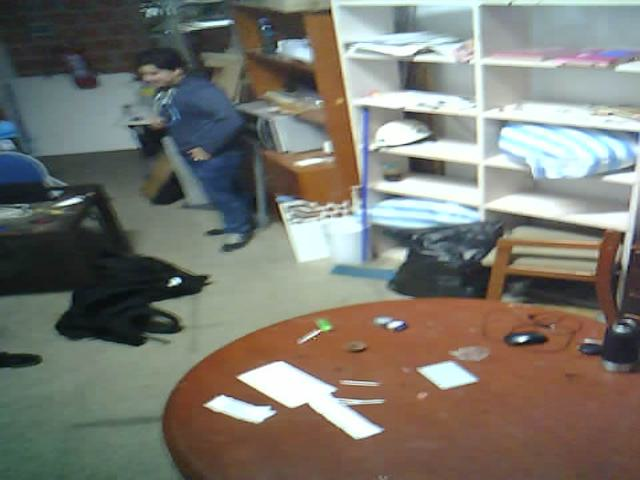person: (121, 33, 274, 257)
